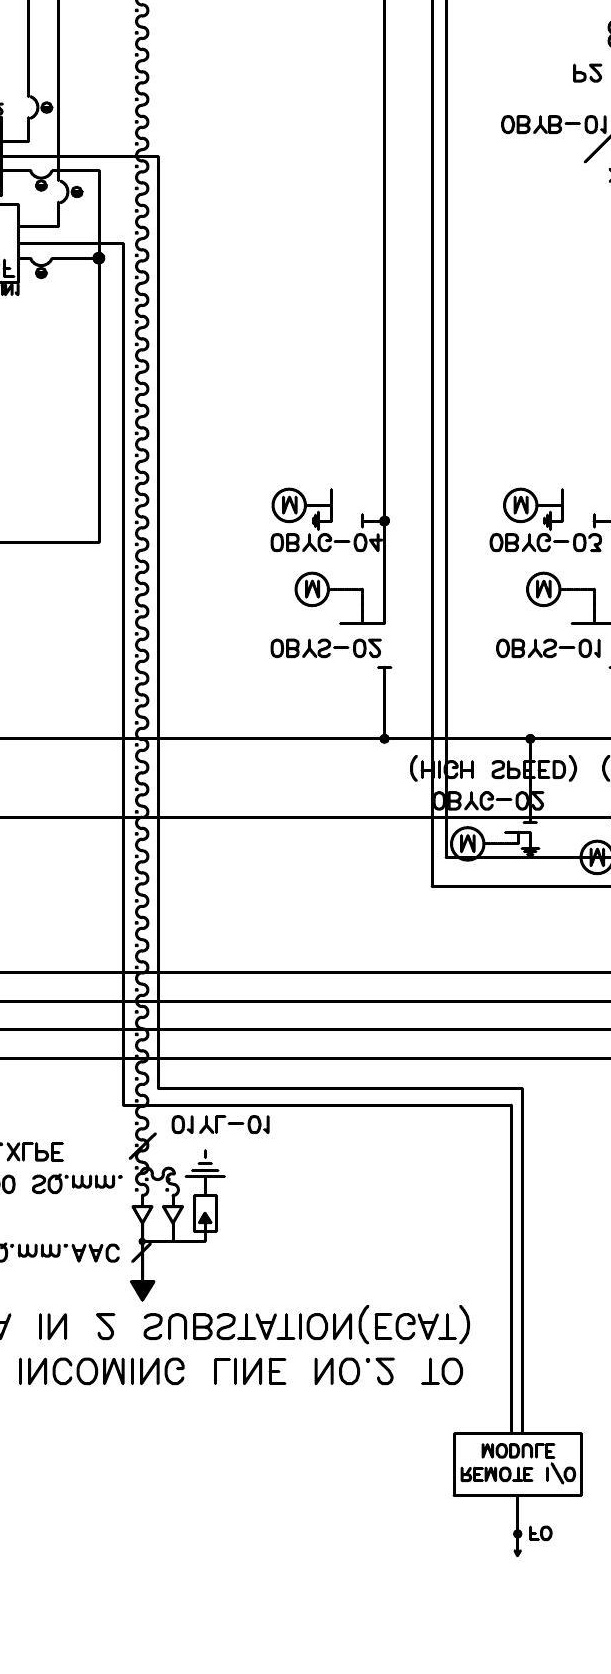115_1way_ds_w_motor: (294, 570, 393, 669)
115_gs_w_motor: (270, 487, 364, 532), (502, 487, 596, 532), (450, 821, 542, 863)
115_la: (184, 1148, 226, 1233)
remote_io_module: (452, 1432, 583, 1498)
terminator_double: (130, 1204, 186, 1244)
